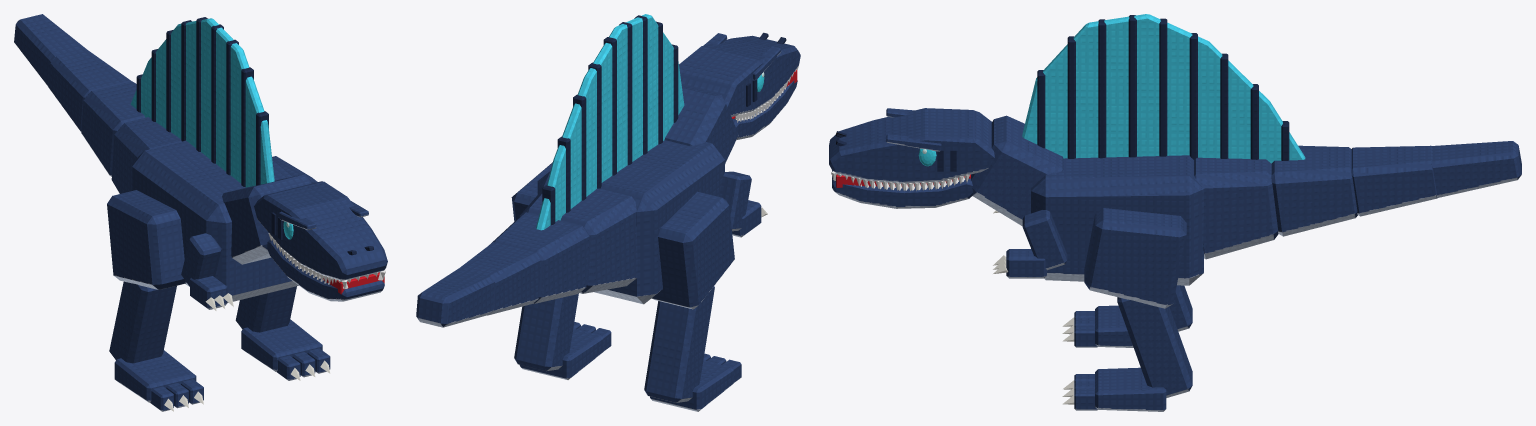
Rendered from 17_Spinosaurus.glb.
The picture shows the model from 3 angles, left to right: view 1: azimuth 30°, elevation 25°; view 2: azimuth 150°, elevation 25°; view 3: azimuth 270°, elevation 25°; orthographic projection. The views are drawn at different scales.
Parts seen in each view (by area): view 1: 17_Spinosaurus; view 2: 17_Spinosaurus; view 3: 17_Spinosaurus.
Boxes of the visible parts, <box> form: 17_Spinosaurus: <box>14,14,387,411</box>; 17_Spinosaurus: <box>416,14,800,411</box>; 17_Spinosaurus: <box>829,14,1521,411</box>.
Size of the model in its own units: 5.51 by 10.38 by 18.4.
1 material, 1 textured.
